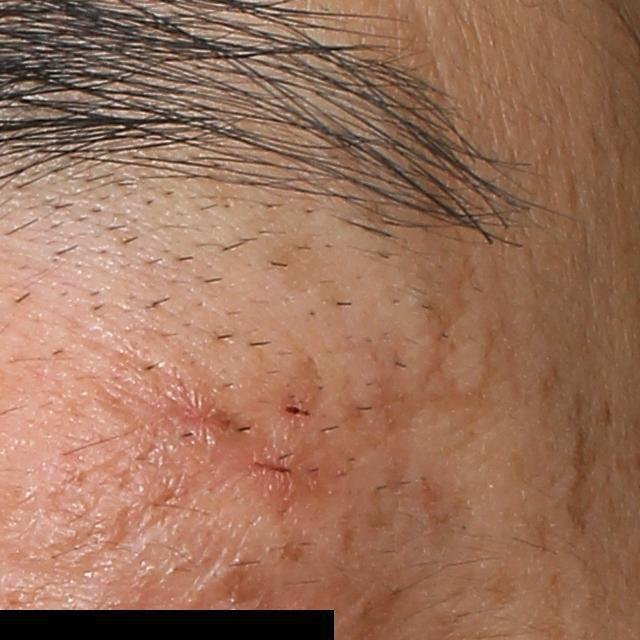melasma: (486, 571, 521, 608)
